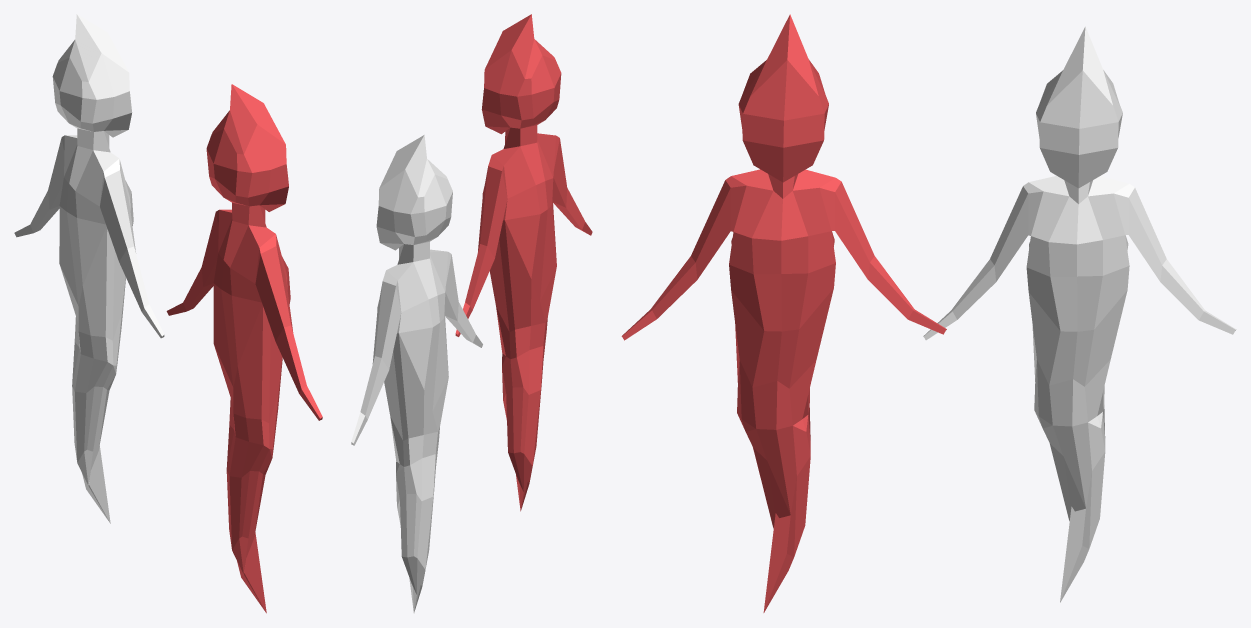
Rendered from AR_assests2.fbx.
3 renders of one model, left to right at view 1: azimuth 30°, elevation 25°; view 2: azimuth 150°, elevation 25°; view 3: azimuth 270°, elevation 25°, orthographic. The views are drawn at different scales.
Visible parts, largest first — view 1: Souk2, Soul; view 2: Souk2, Soul; view 3: Souk2, Soul.
Boxes of the visible parts, x1=… form: Souk2: x1=166, y1=84, x2=322, y2=613; Soul: x1=14, y1=14, x2=164, y2=523; Souk2: x1=455, y1=14, x2=592, y2=511; Soul: x1=351, y1=135, x2=482, y2=612; Souk2: x1=621, y1=14, x2=946, y2=612; Soul: x1=923, y1=26, x2=1236, y2=602.
Bounding box in the file's own units: 102 × 577 × 546.
